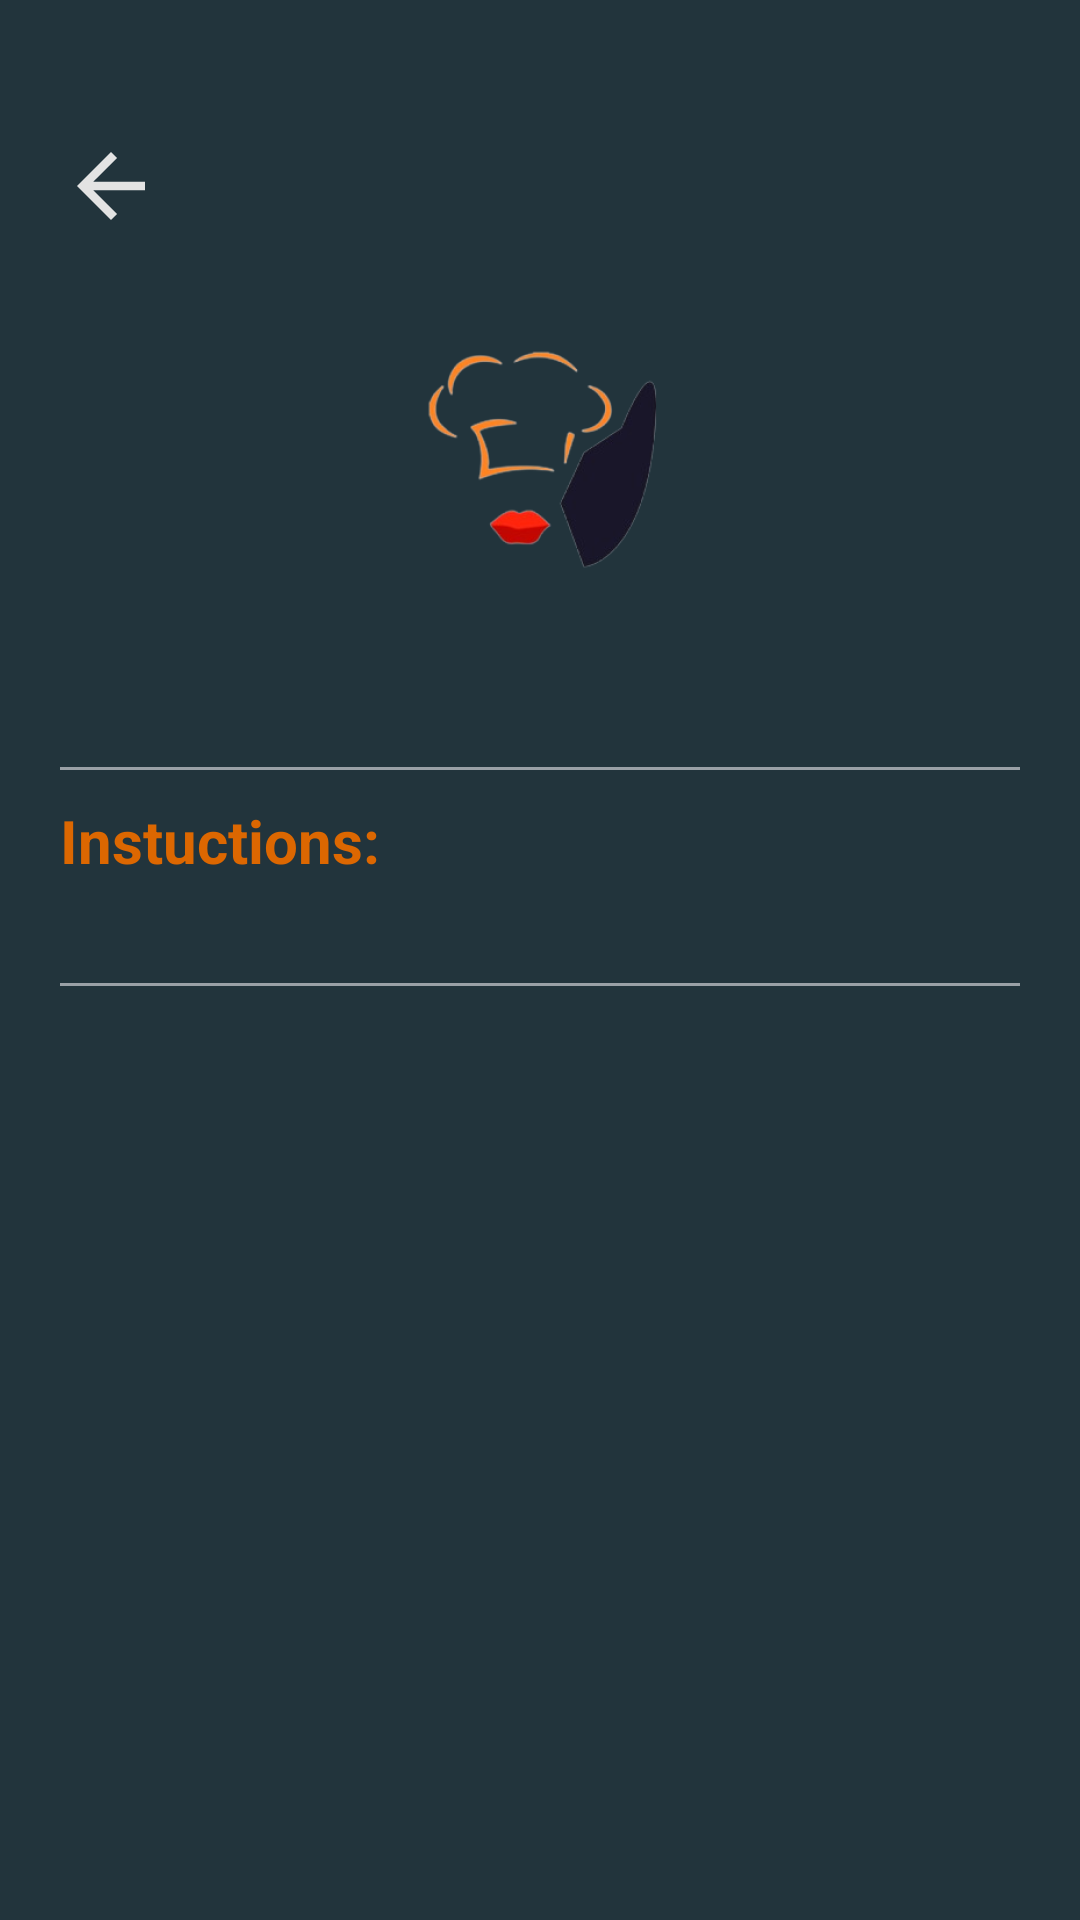

Icons on this 1080w x 1920h Android screen, each with the point to tap as point (x, y):
arrow back: point (111, 186)
